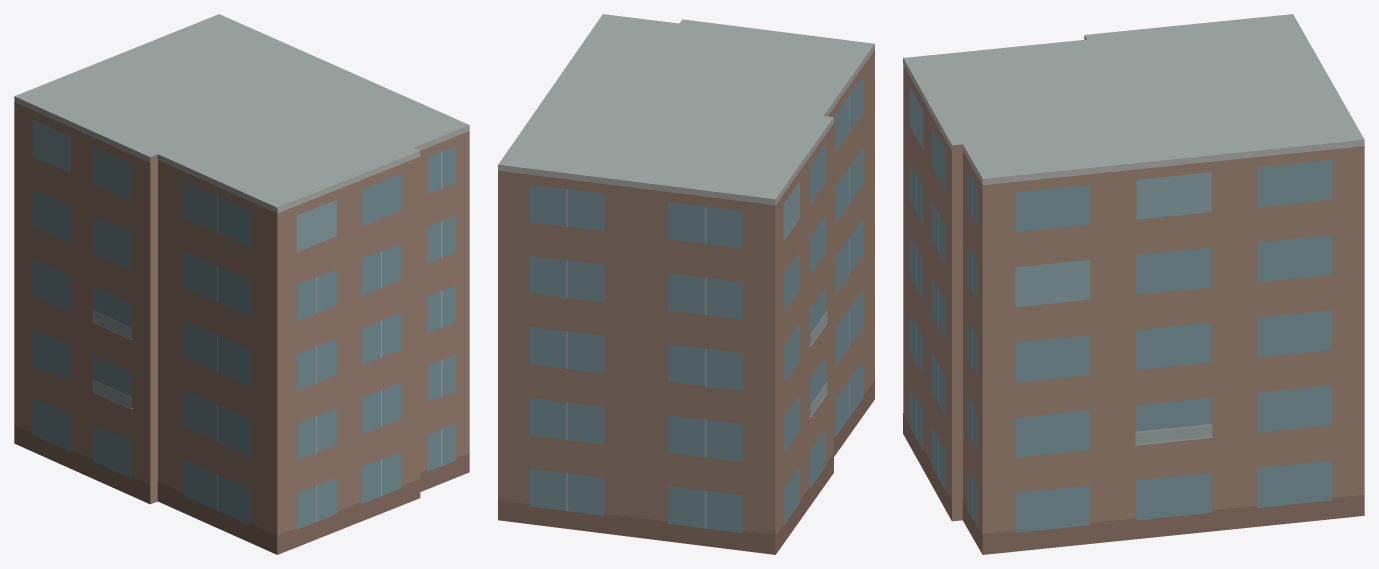
Rendered from survey-upis-32935720.glb.
3 views of the same model, side by side, from view 1: azimuth 30°, elevation 25°; view 2: azimuth 150°, elevation 25°; view 3: azimuth 270°, elevation 25° (orthographic). The views are drawn at different scales.
Visible parts, largest first — view 1: survey-upis-32935720.tmp; view 2: survey-upis-32935720.tmp; view 3: survey-upis-32935720.tmp.
Boxes of the visible parts, box(x1,y1,x2,y2) form: survey-upis-32935720.tmp: box(14, 14, 469, 554); survey-upis-32935720.tmp: box(498, 14, 874, 554); survey-upis-32935720.tmp: box(903, 14, 1364, 554).
Bounding box in the file's own units: 13.69 × 14.54 × 16.18.
